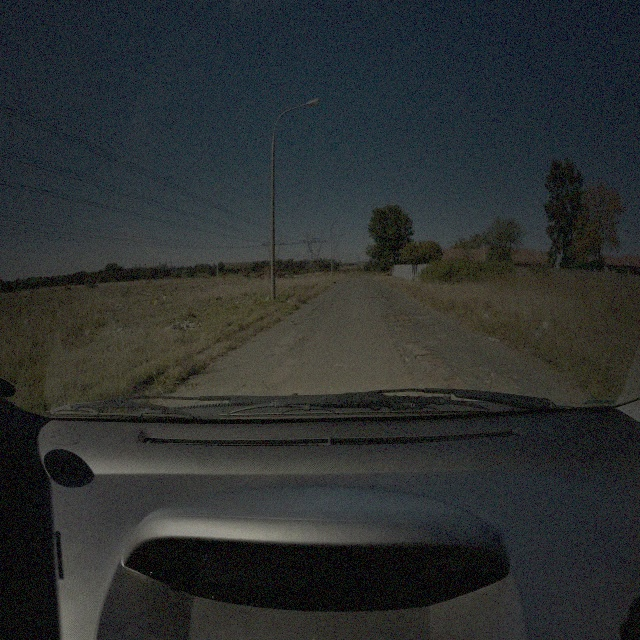pothole: (415, 351, 448, 369), (444, 372, 467, 394), (399, 348, 409, 366), (395, 314, 409, 326), (300, 336, 312, 344), (408, 341, 420, 347), (290, 348, 294, 356), (308, 312, 312, 318)
